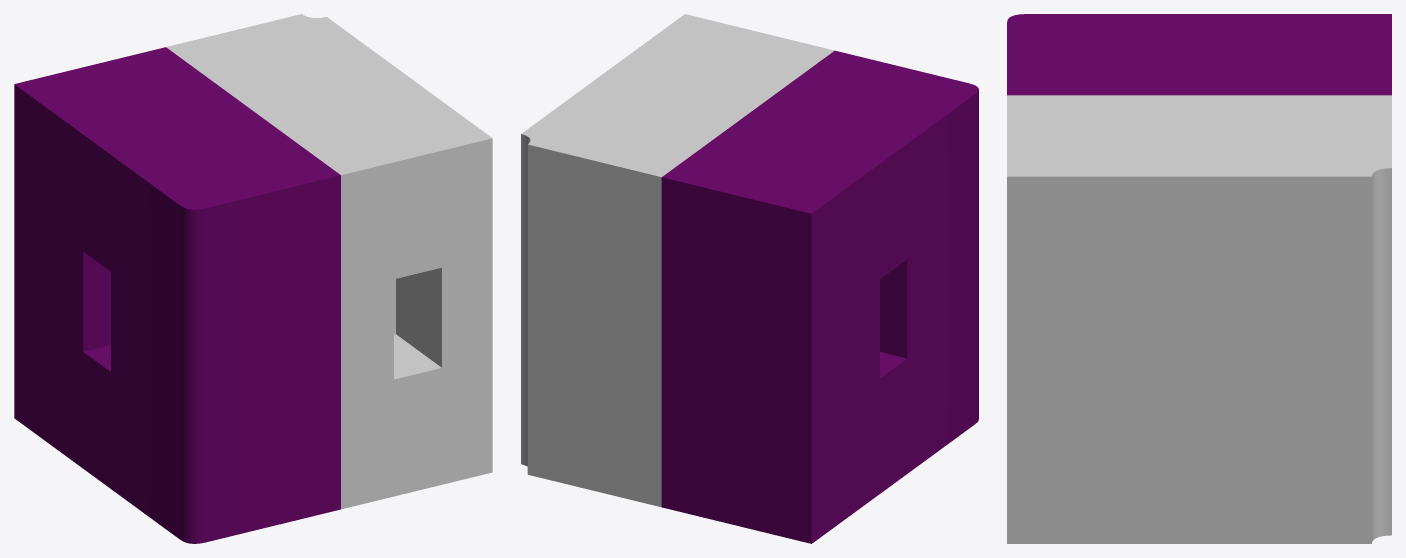
Rendered from Building_03_L_B.fbx.
3 views of the same model, side by side, from view 1: azimuth 30°, elevation 25°; view 2: azimuth 150°, elevation 25°; view 3: azimuth 270°, elevation 25° (orthographic). The views are drawn at different scales.
Parts seen in each view (by area): view 1: 3, 1, 4, 2; view 2: 4, 2, 3, 1; view 3: 1, 2, 4, 3.
Part boxes in pixels (left/top/right/bottom): 3: left=101, top=111, right=340, bottom=543; 1: left=254, top=74, right=492, bottom=509; 4: left=14, top=47, right=252, bottom=481; 2: left=166, top=14, right=404, bottom=110; 4: left=661, top=114, right=898, bottom=543; 2: left=521, top=77, right=747, bottom=507; 3: left=748, top=50, right=978, bottom=480; 1: left=599, top=14, right=834, bottom=113; 1: left=1007, top=95, right=1199, bottom=543; 2: left=1199, top=95, right=1391, bottom=543; 4: left=1199, top=14, right=1391, bottom=95; 3: left=1007, top=14, right=1199, bottom=95.
Bounding box in the file's own units: 190 × 200 × 190.
